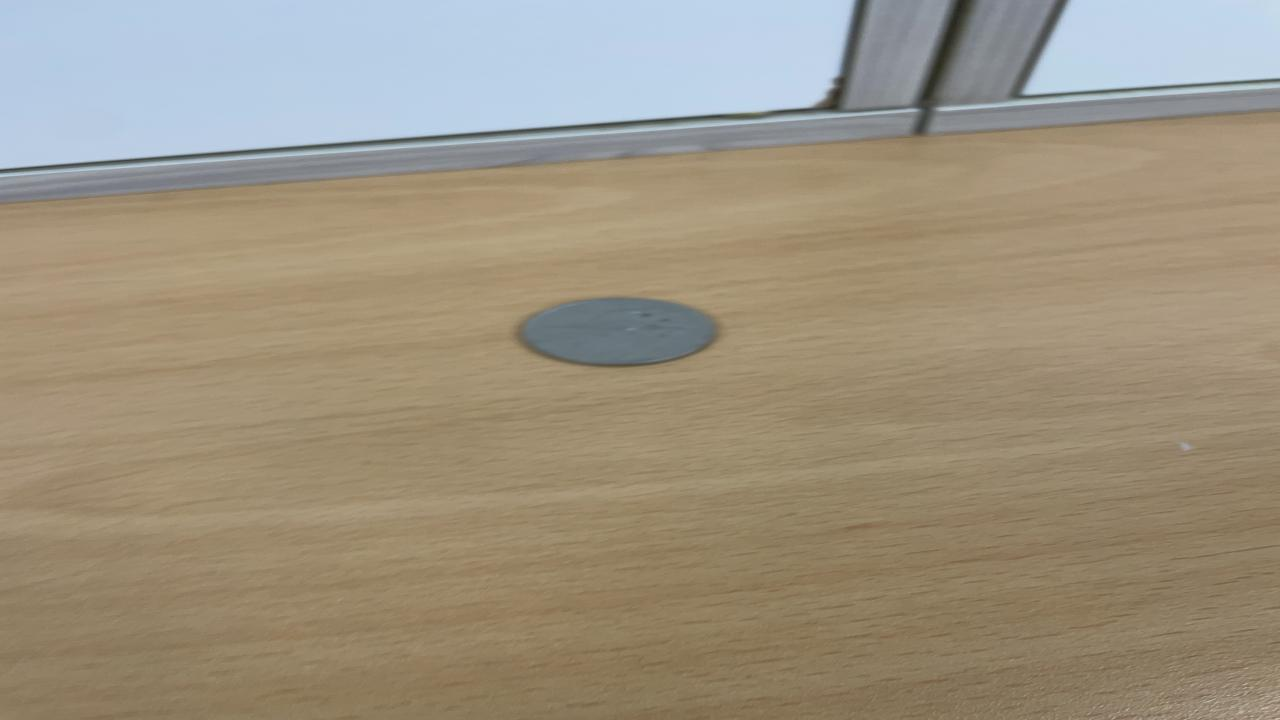coin: (510, 293, 728, 368)
